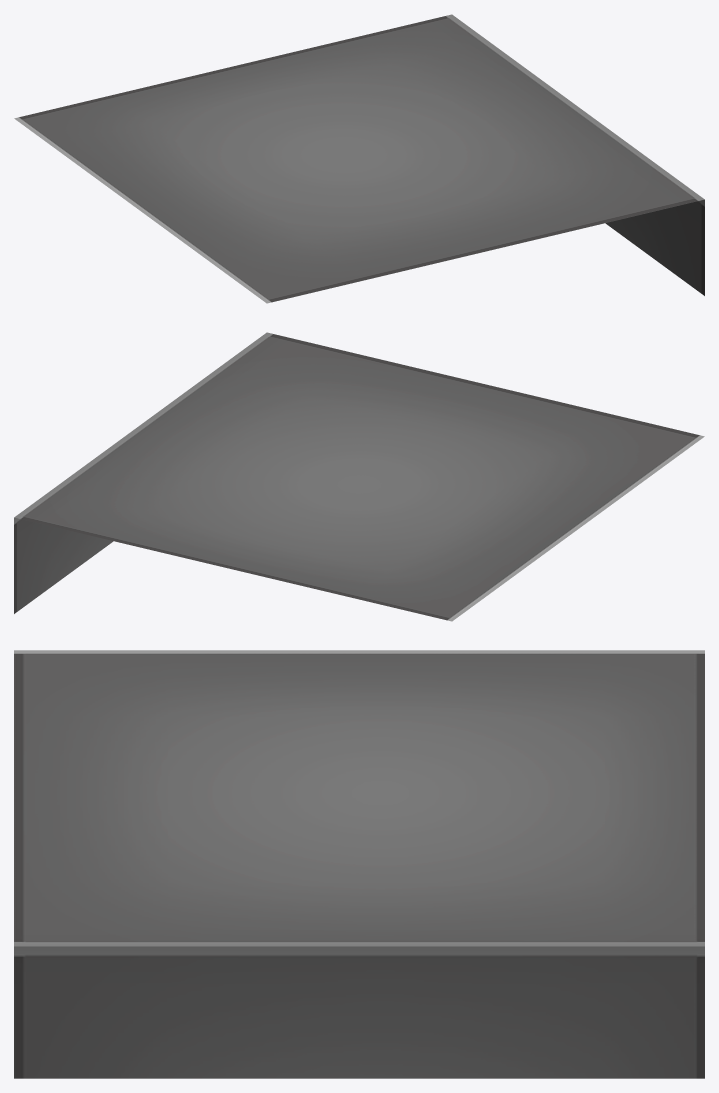
The model's file is Sidewalk.fbx.
3 views of the same model, one above another, from view 1: azimuth 30°, elevation 25°; view 2: azimuth 150°, elevation 25°; view 3: azimuth 270°, elevation 25° (orthographic). The views are drawn at different scales.
Visible parts, largest first — view 1: Sidewalk; view 2: Sidewalk; view 3: Sidewalk.
Boxes of the visible parts, x1,y1,x2,y2 form: Sidewalk: [14, 14, 704, 303]; Sidewalk: [14, 332, 704, 621]; Sidewalk: [14, 650, 704, 1078].
Size of the model in its own units: 97.85 by 21.26 by 97.85.
